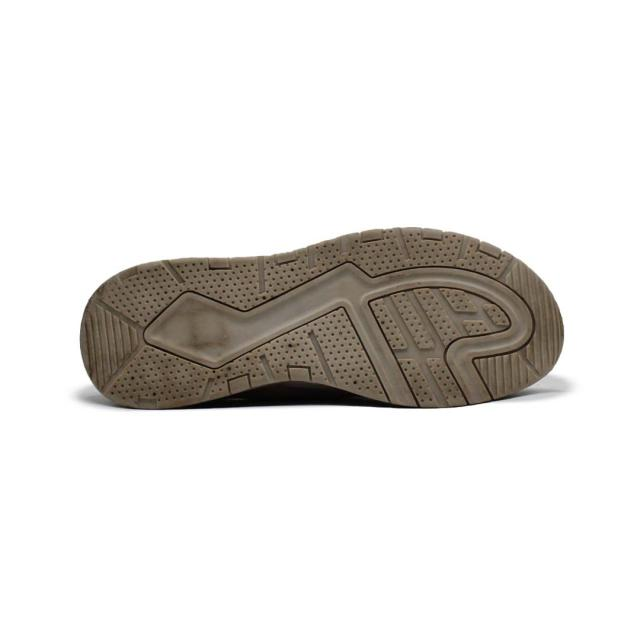outersole: (79, 223, 566, 409)
